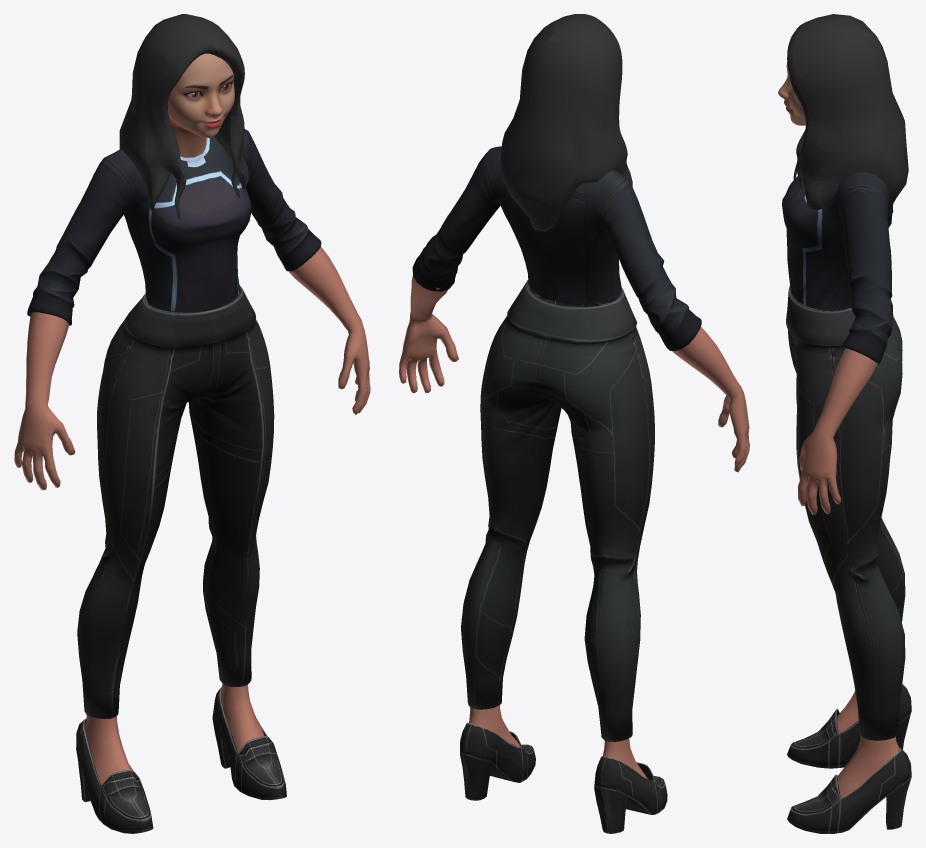
File: WomenAvatar_2.fbx
3 renders of one model, left to right at view 1: azimuth 30°, elevation 25°; view 2: azimuth 150°, elevation 25°; view 3: azimuth 270°, elevation 25°, orthographic.
Visible parts, largest first — view 1: Legs, Upper_Body, Hands_&_Feet, Hair, Shoes, Head; view 2: Legs, Upper_Body, Hair, Hands_&_Feet, Shoes; view 3: Legs, Hair, Upper_Body, Shoes, Hands_&_Feet, Head.
Boxes of the visible parts, x1,y1,x2,y2 form: Legs: (77,285,274,718); Upper_Body: (27,129,321,325); Hands_&_Feet: (14,247,370,784); Hair: (119,14,249,219); Shoes: (76,687,286,833); Head: (167,53,234,157); Legs: (461,280,654,741); Upper_Body: (412,146,701,351); Hair: (500,14,632,231); Hands_&_Feet: (399,276,749,778); Shoes: (460,722,667,833); Legs: (786,285,905,740); Hair: (787,14,908,217); Upper_Body: (782,172,893,364); Shoes: (787,684,911,833); Hands_&_Feet: (798,348,899,797); Head: (778,62,805,125).
Size of the model in its own units: 81.58 by 174 by 27.26.
Materials: 8 (7 with a texture image).
